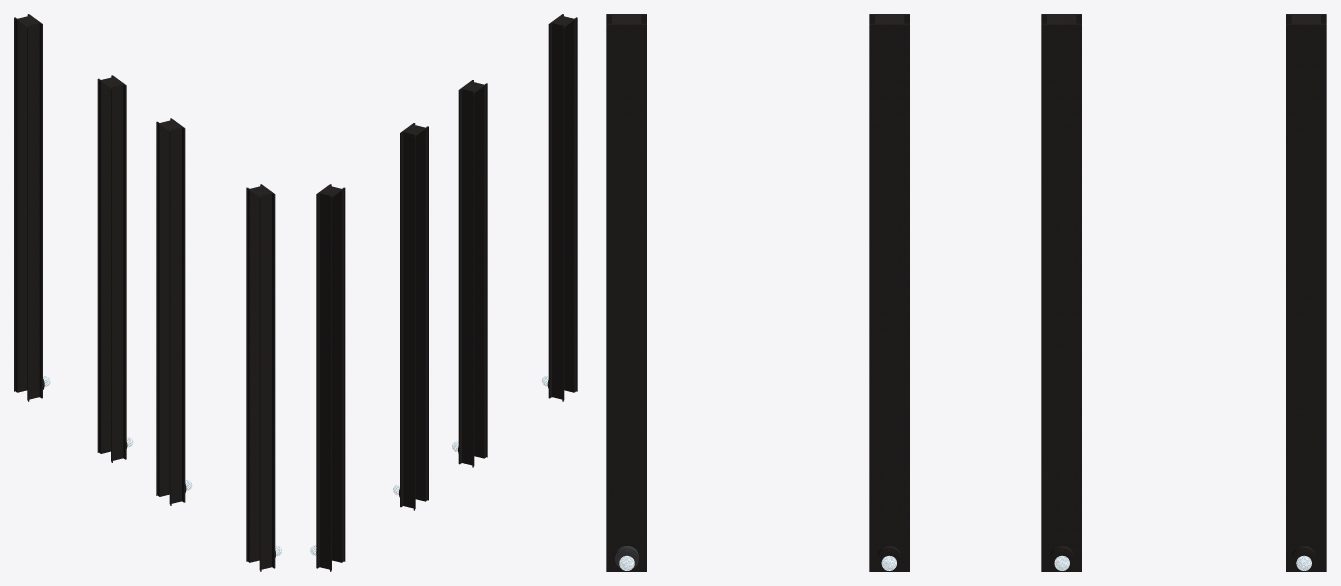
Rendered from Ref_Viga.fbx.
3 renders of one model, left to right at view 1: azimuth 30°, elevation 25°; view 2: azimuth 150°, elevation 25°; view 3: azimuth 270°, elevation 25°, orthographic. The views are drawn at different scales.
Visible parts, largest first — view 1: Vigas; view 2: Vigas; view 3: Vigas.
Part boxes in pixels (x1,y1,x2,y2): Vigas: [14, 14, 281, 571]; Vigas: [310, 14, 577, 571]; Vigas: [606, 14, 1326, 571].
Size of the model in its own units: 54.88 by 699 by 834.
